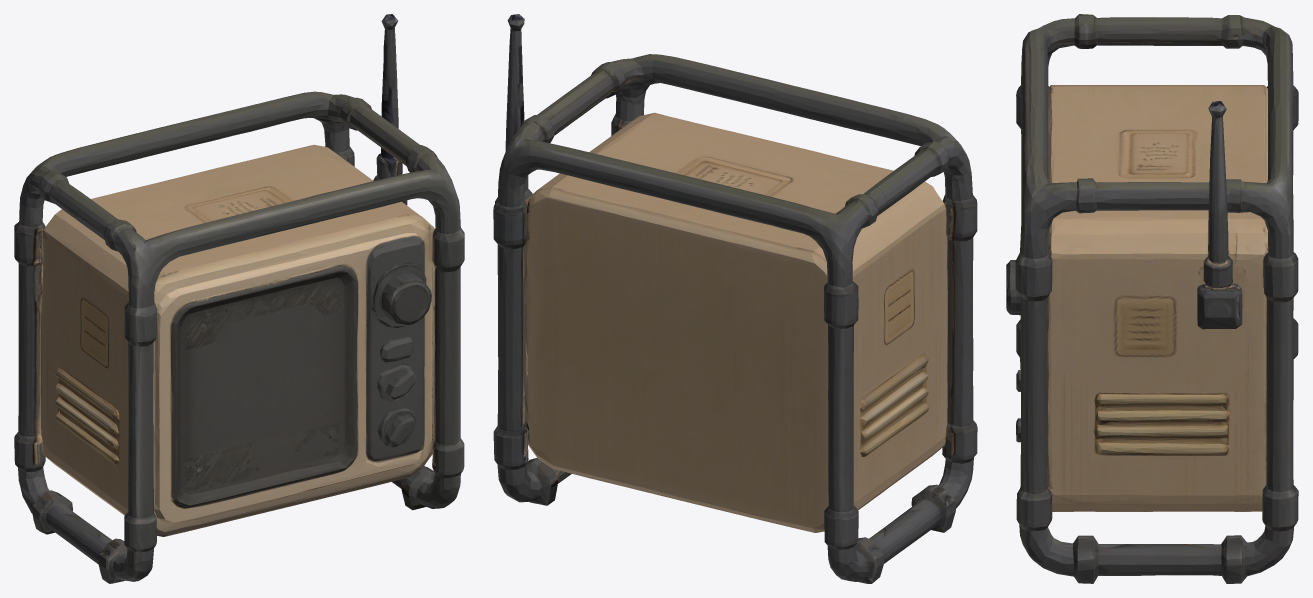
The model's file is Retro_Cube_Radio_0618214725_texture.fbx.
The picture shows the model from 3 angles, left to right: view 1: azimuth 30°, elevation 25°; view 2: azimuth 150°, elevation 25°; view 3: azimuth 270°, elevation 25°; orthographic projection. The views are drawn at different scales.
Visible parts, largest first — view 1: temp; view 2: temp; view 3: temp.
Boxes of the visible parts, <box> form: temp: <box>14,14,464,583</box>; temp: <box>493,14,977,583</box>; temp: <box>1006,14,1298,583</box>.
Size of the model in its own units: 171 by 200 by 108.
1 material, 1 textured.
